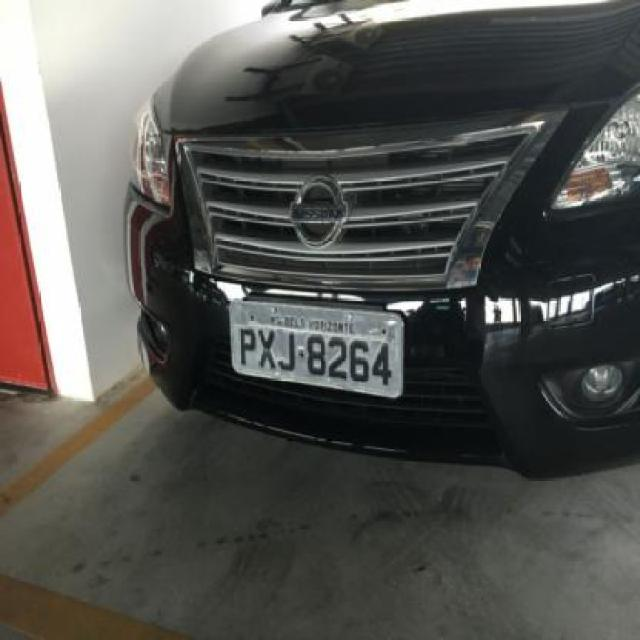old_plate: (225, 292, 411, 406)
